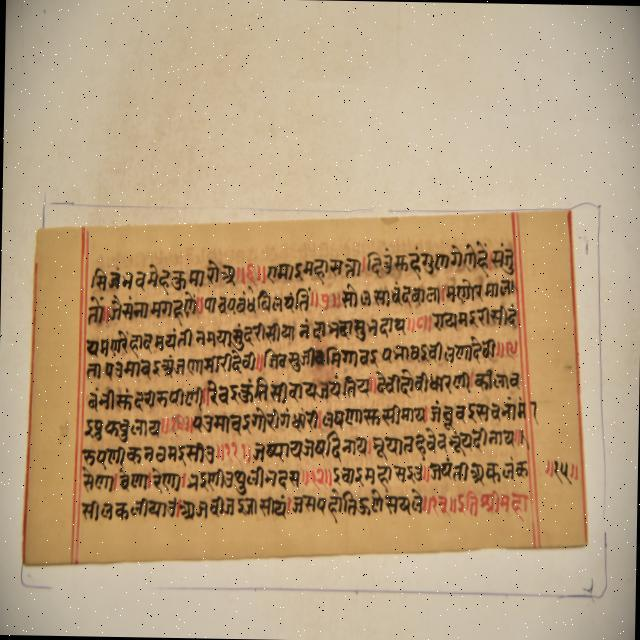text_paragraph: (21, 207, 586, 563)
